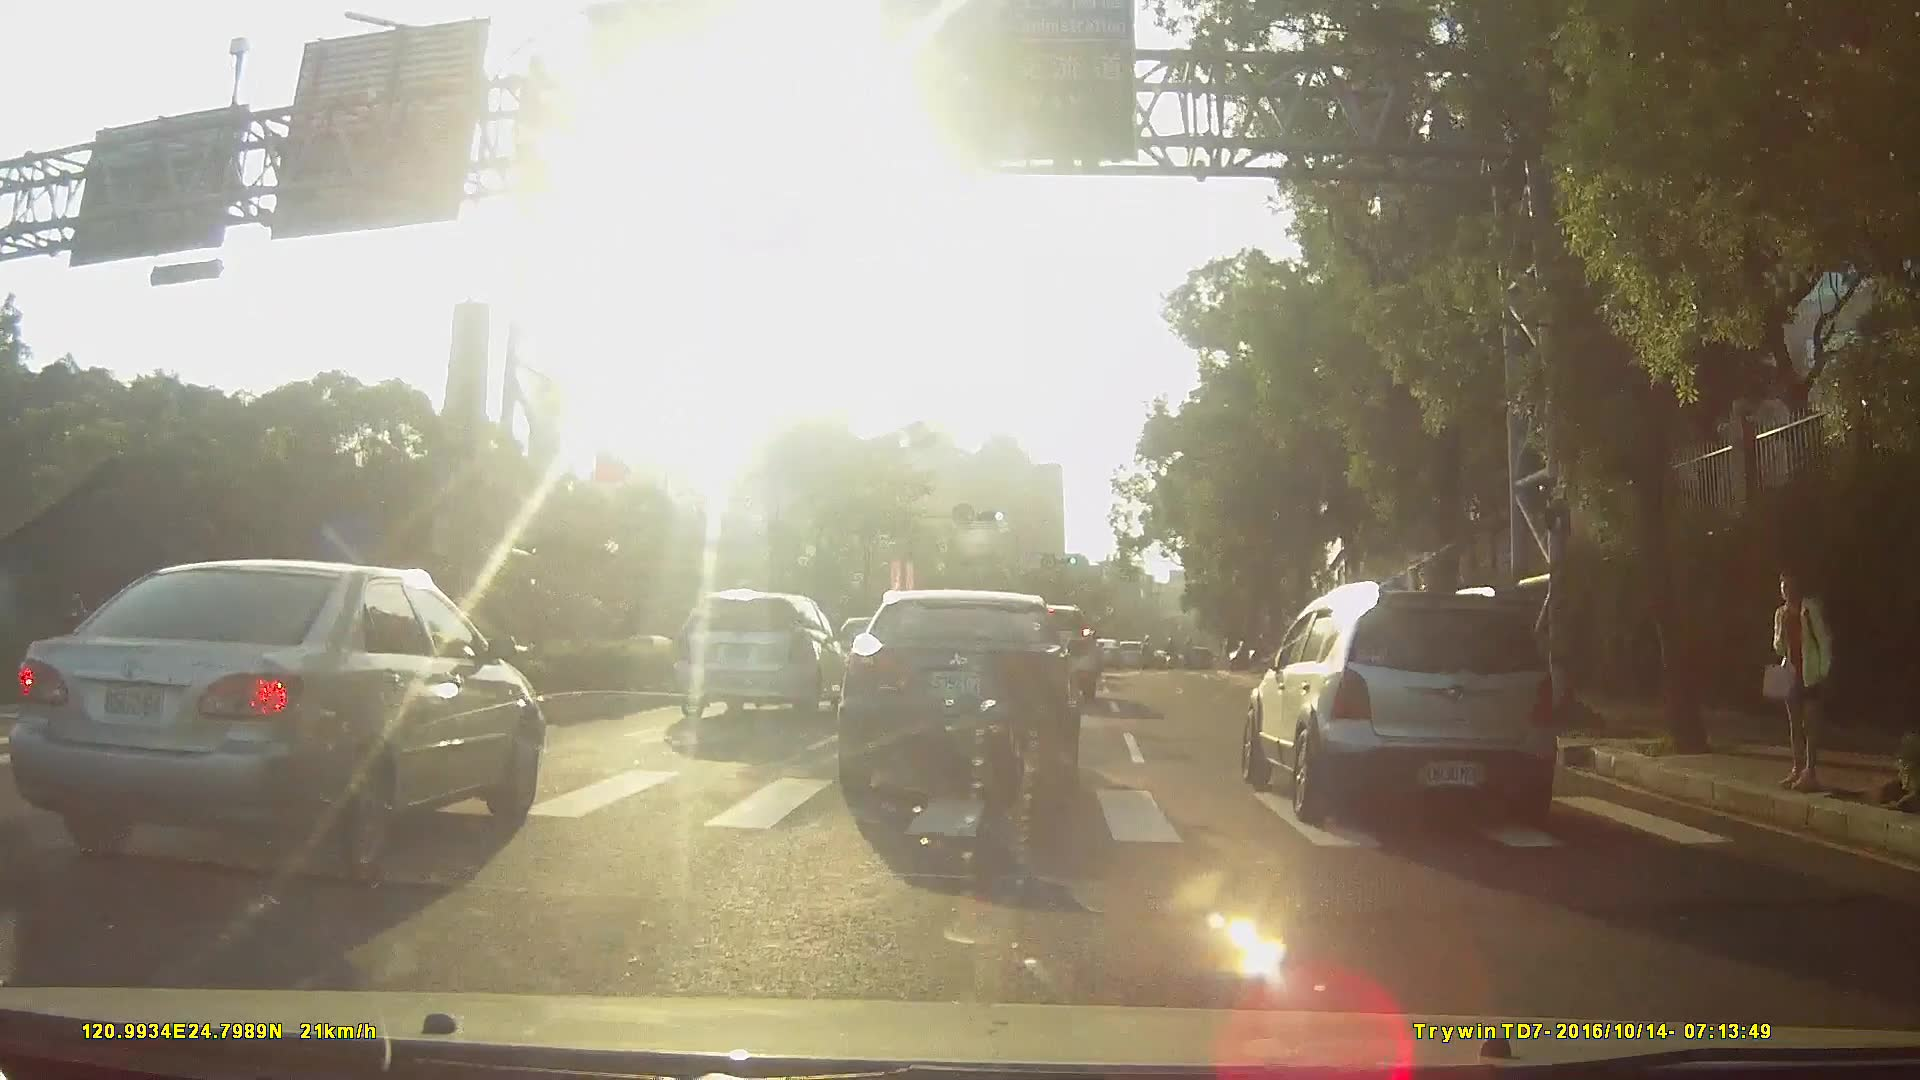pedestrian: (1763, 562, 1844, 793)
vehicle: (1, 558, 556, 888), (1224, 570, 1586, 835), (843, 592, 1099, 803), (662, 584, 846, 716), (1084, 632, 1119, 666), (1109, 635, 1144, 666)
